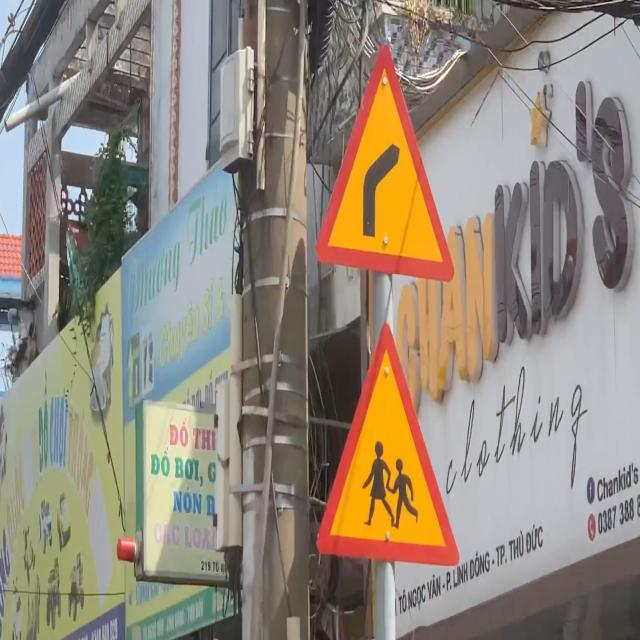Nguy hiem: (314, 312, 462, 571), (309, 40, 457, 288)
